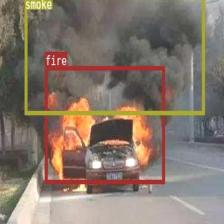fire: (44, 66, 164, 183)
smoke: (24, 0, 204, 114)
